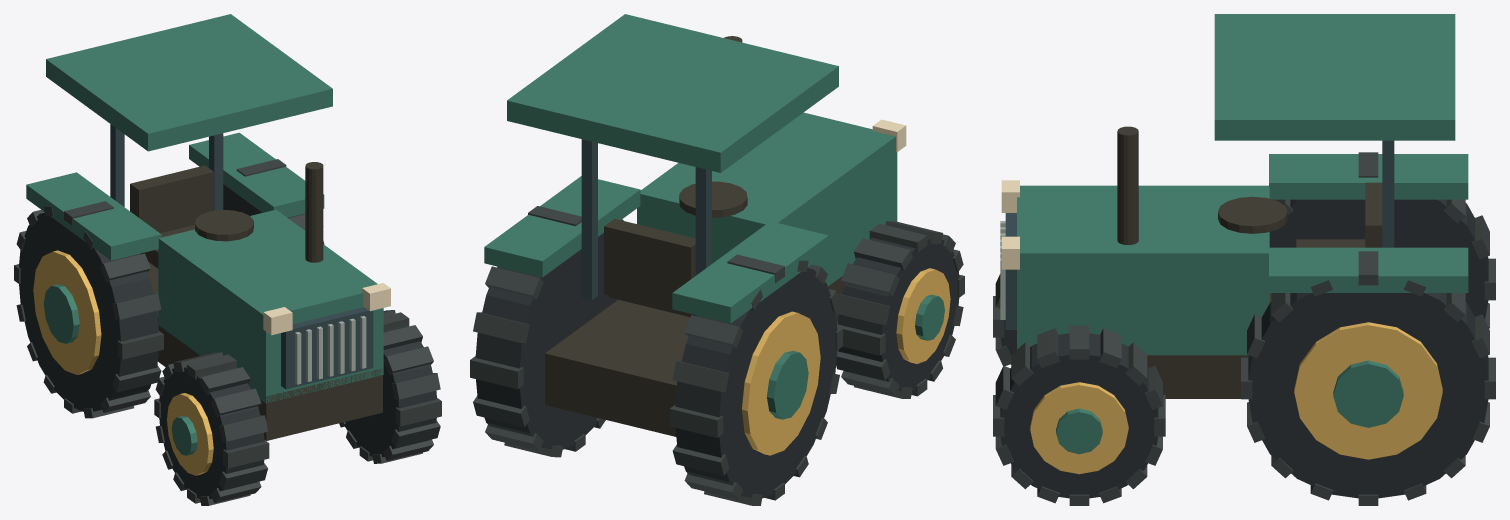
Rendered from jade_tractor.glb.
3 renders of one model, left to right at view 1: azimuth 30°, elevation 25°; view 2: azimuth 150°, elevation 25°; view 3: azimuth 270°, elevation 25°, orthographic. The views are drawn at different scales.
Visible parts, largest first — view 1: Chassis, RearLeft, FrontLeft, FrontRight, RearRight; view 2: Chassis, RearLeft, FrontLeft, RearRight; view 3: Chassis, RearRight, FrontRight, RearLeft, FrontLeft.
Boxes of the visible parts, box(x1,y1,x2,y2) form: Chassis: box(26, 14, 390, 440); RearLeft: box(14, 201, 163, 418); FrontLeft: box(154, 352, 269, 505); FrontRight: box(339, 310, 441, 463); RearRight: box(223, 159, 324, 244); Chassis: box(484, 14, 906, 436); RearLeft: box(669, 254, 842, 505); FrontLeft: box(835, 221, 964, 398); RearRight: box(470, 206, 623, 457); Chassis: box(1000, 14, 1468, 398); RearRight: box(1241, 251, 1495, 505); FrontRight: box(993, 325, 1165, 505); RearLeft: box(1269, 152, 1495, 328); FrontLeft: box(993, 274, 1016, 365).
Bounding box in the file's own units: 2.08 × 2.74 × 3.31.
